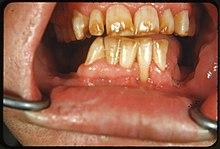LLCI_mdecay: (138, 37, 153, 82)
LLLI_mdecay: (153, 39, 169, 73)
LRCI_mdecay: (119, 38, 138, 68)
LRC_mdecay: (83, 37, 103, 66)
LRLI_mdecay: (103, 39, 119, 66)
ULCI_sdecay: (134, 3, 160, 36)
ULC_sdecay: (175, 10, 189, 37)
ULLI_sdecay: (160, 10, 174, 35)
URCI_sdecay: (105, 6, 135, 35)
URC_sdecay: (71, 9, 89, 39)
URLI_sdecay: (89, 8, 105, 36)
